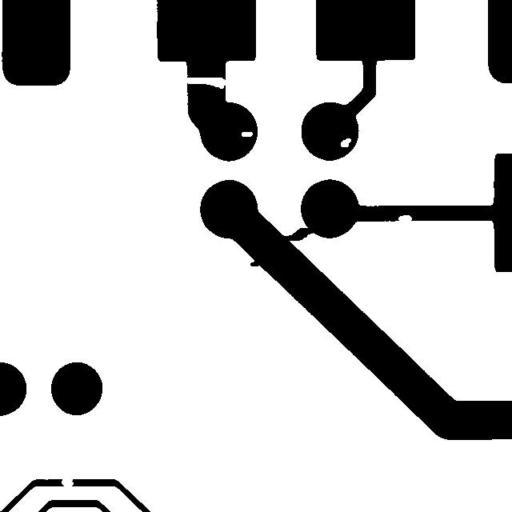mousebite: (390, 207, 419, 229)
open: (178, 70, 234, 96), (54, 468, 81, 494)
pin-hole: (333, 130, 358, 154), (234, 124, 260, 144)
short: (274, 220, 324, 248)
spur: (242, 252, 269, 274)
